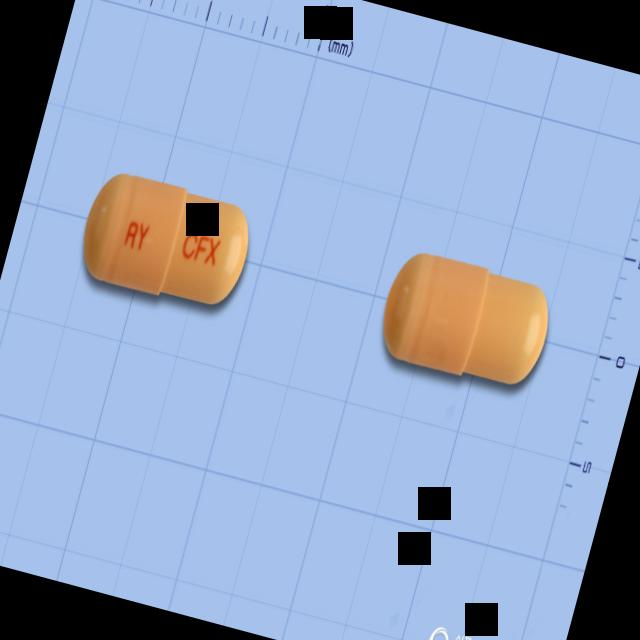Cefixime Cap- Reyon: (68, 155, 266, 325)
